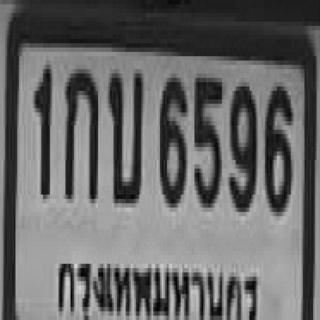A01: (64, 63, 96, 197)
A26: (106, 65, 141, 199)
N01: (33, 60, 50, 194)
N05: (193, 74, 220, 203)
N06: (263, 80, 291, 210), (158, 74, 186, 203)
N09: (227, 78, 254, 208)
P04: (53, 252, 264, 320)
